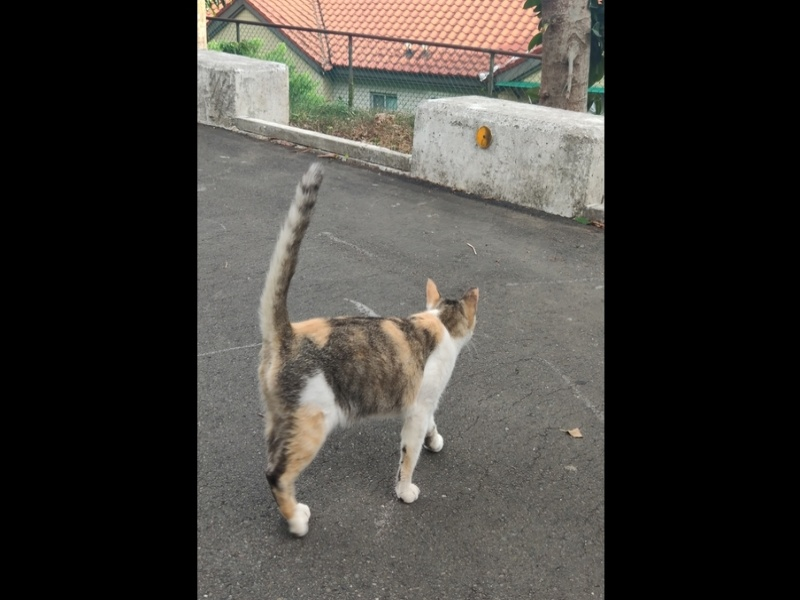cat: (249, 158, 487, 541)
